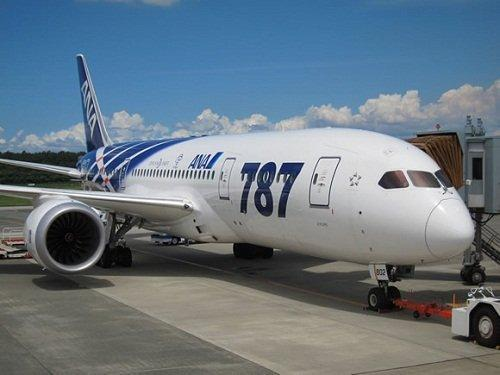airplane: (4, 52, 486, 313)
